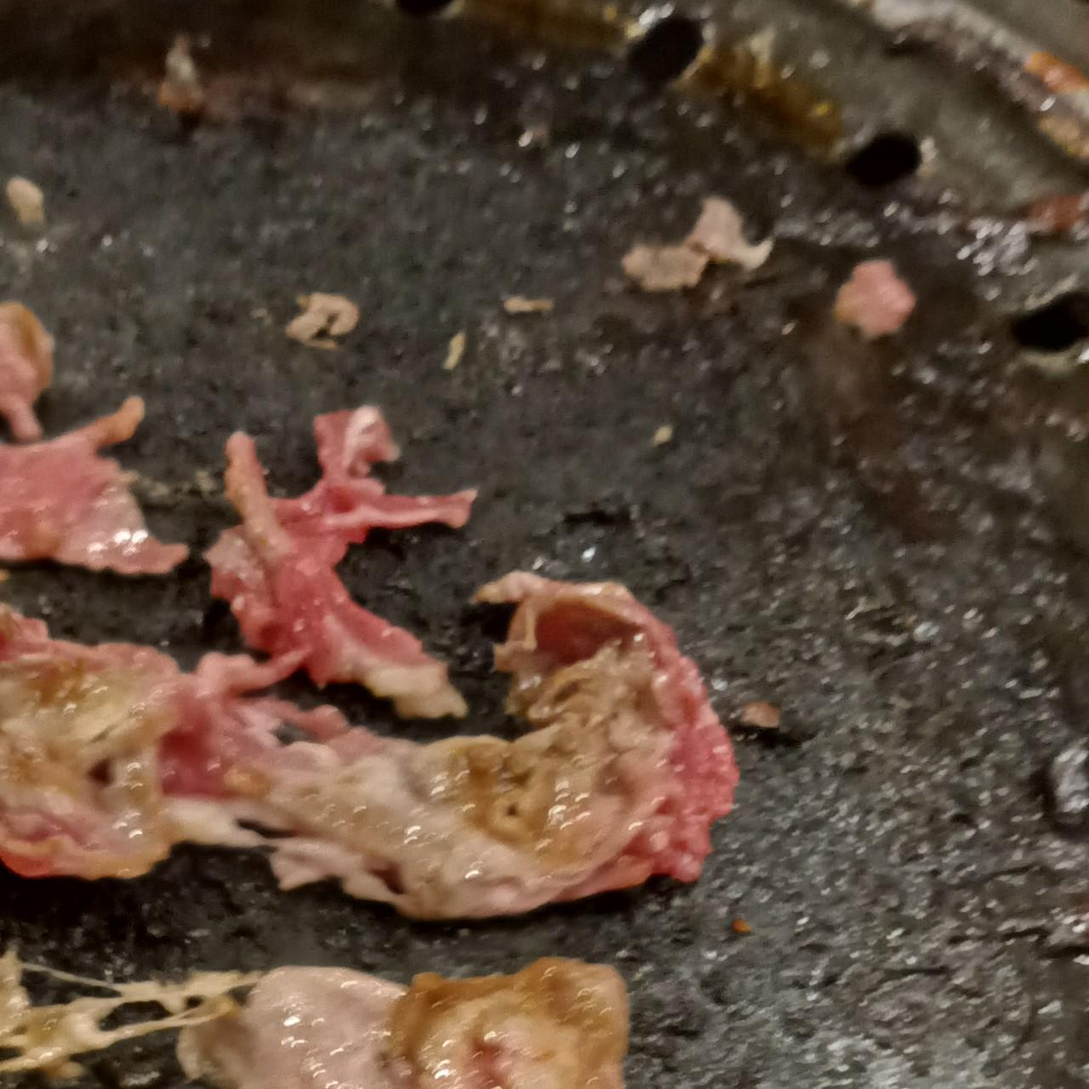Undercooked: (0, 407, 737, 920)
